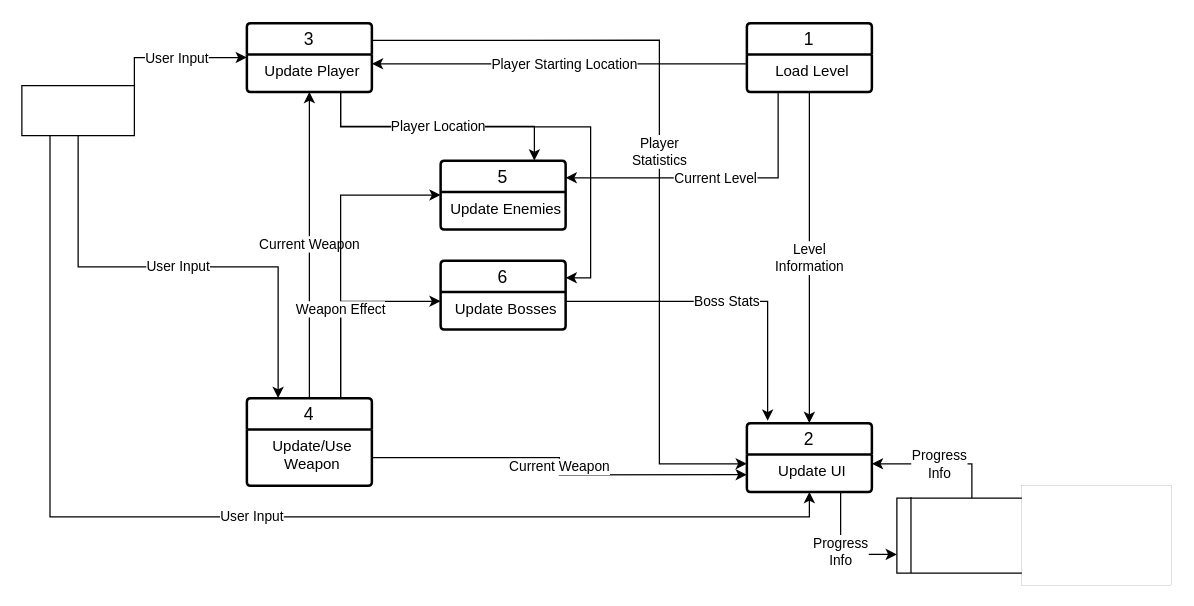
The diagram is 1194 pixels wide and 606 high, and some of its shapes have lost their labels. The shapes that lost their labels are listed below. From the top down, each one's centre as x and y in pixels, then its label:
At (x=77, y=110): "User".
At (x=971, y=535): "FileSystem".
